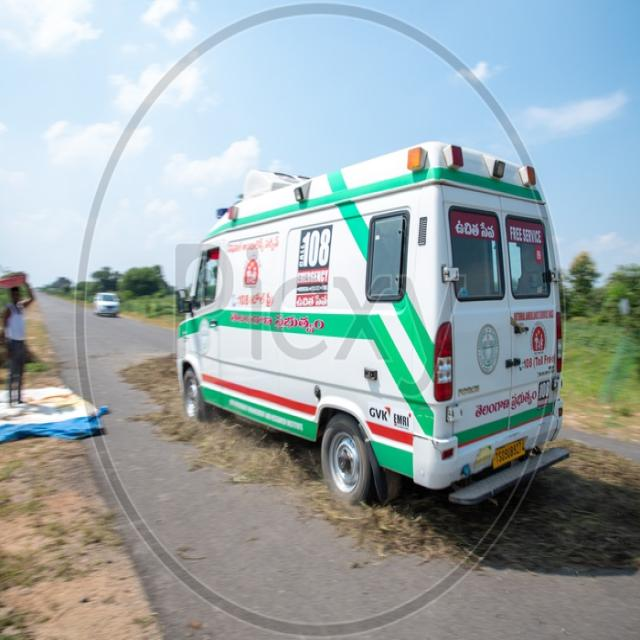ambulance: (177, 140, 571, 508)
